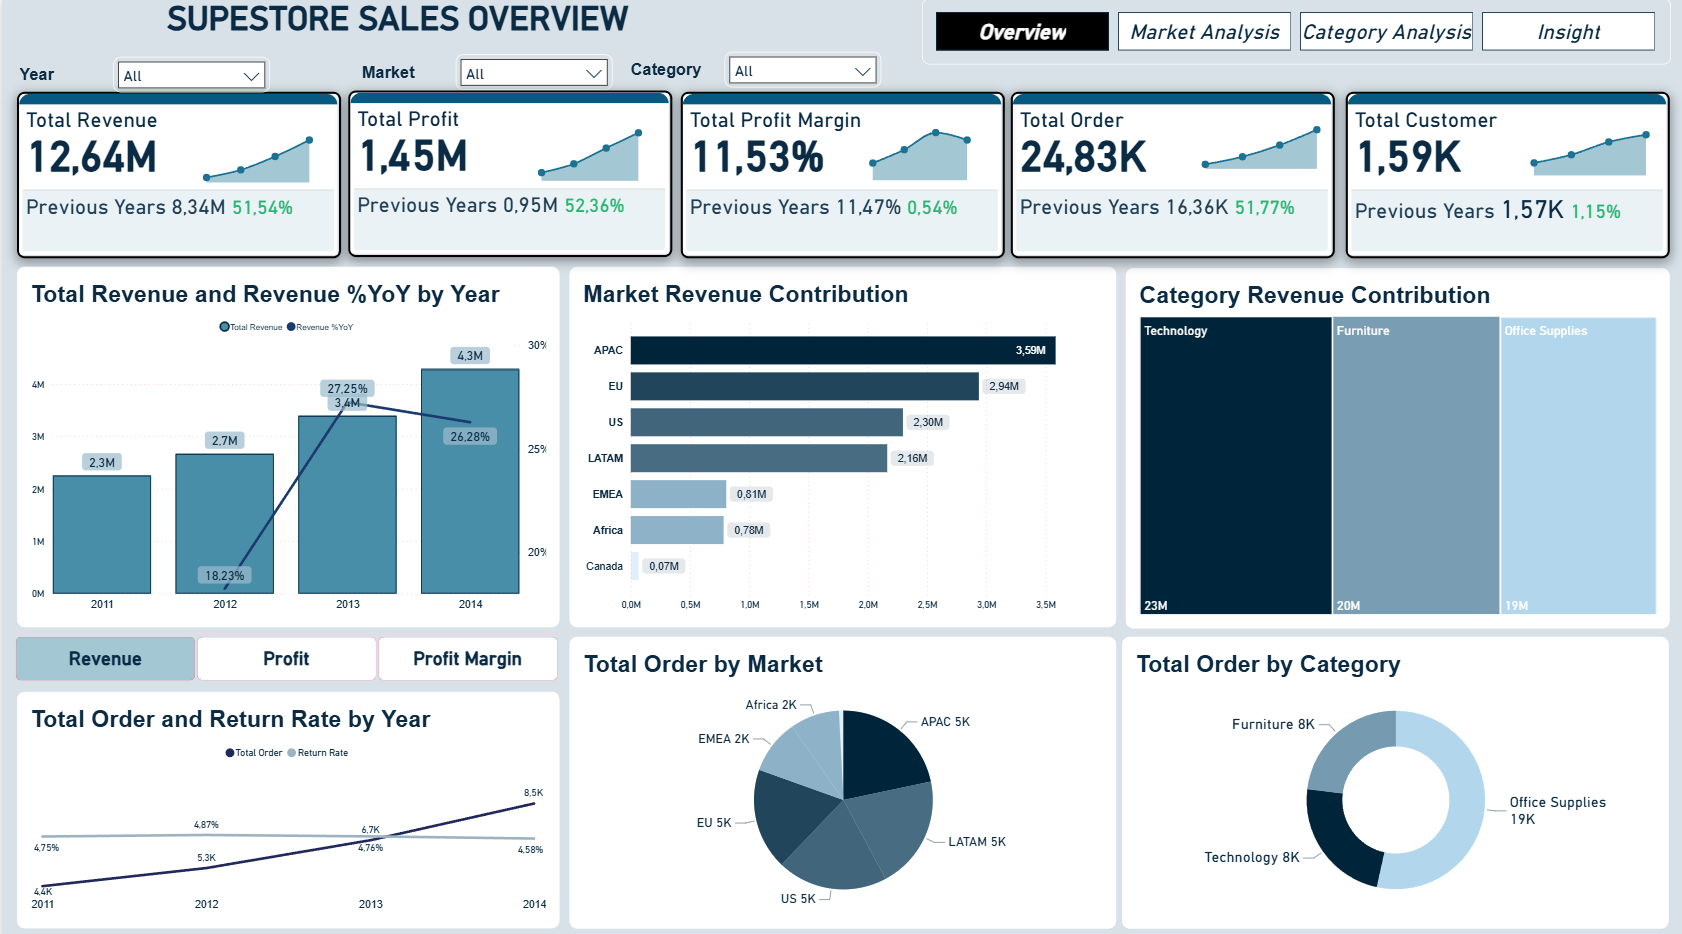

Layout of this report page (visuals, bound fields, positions):
{"tool":"powerbi","page":{"name":"Overview","canvas":[1920,1080],"ordinal":0},"visuals":[{"type":"textbox","box":[188.3,0,615,66.7],"z":0},{"type":"cardVisual","fields":{"Data":["_Measure.Total Customer"]},"box":[1535.7,107.5,370,190],"z":1000,"group":"g2"},{"type":"treemap","title":"Category Revenue Contribution","fields":{"Values":["Sum(Orders.Revenue)"],"Group":["Orders.Category","Orders.Sub-Category","Orders.Product Name"]},"box":[1285,308.3,621.7,411.7],"z":1000},{"type":"cardVisual","fields":{"Data":["Count(Orders.Order ID)"]},"box":[1153.3,107.5,370,190],"z":2000,"group":"g1"},{"type":"clusteredBarChart","title":"Market Revenue Contribution","fields":{"Category":["Orders.Market"],"Y":["_Measure.Total Revenue"]},"box":[648.3,306.7,625,411.7],"z":2000},{"type":"cardVisual","fields":{"Data":["_Measure.Total Revenue"]},"box":[17.1,107.5,370,190],"z":3000,"group":"g3"},{"type":"group","id":"g1","title":"Group 1","box":[1153.3,107.5,375.3,190],"z":3000},{"type":"group","id":"g2","title":"Group 2","box":[1535.7,107.5,370,190],"z":4000},{"type":"lineChart","fields":{"Category":["Date.Date.Variation.Date Hierarchy.Year"],"Y":["_Measure.Total Customer"]},"box":[1726,117.2,178,101],"z":4000,"group":"g2"},{"type":"lineChart","fields":{"Category":["Date.Date.Variation.Date Hierarchy.Year"],"Y":["_Measure.Total Revenue"]},"box":[208,123.1,167.5,103.3],"z":4000,"group":"g3"},{"type":"group","id":"g3","title":"Group 3","box":[17.1,107.5,370,190],"z":5000},{"type":"lineChart","fields":{"Category":["Date.Date.Variation.Date Hierarchy.Year"],"Y":["Count(Orders.Order ID)"]},"box":[1351.1,111.6,177.5,98.6],"z":5000,"group":"g1"},{"type":"group","id":"g4","title":"Group 4","box":[775,107.5,370,190],"z":6000},{"type":"pageNavigator","box":[1051.4,0,855.7,75.7],"z":7000},{"type":"group","id":"g5","title":"Group 5","box":[719,61,287,40],"z":8000},{"type":"group","id":"g6","title":"Group 5","box":[411,64,287,40],"z":9000},{"type":"cardVisual","fields":{"Data":["Sum(Orders.Profit)"]},"box":[395.7,106.3,370,190],"z":9000,"group":"g8"},{"type":"cardVisual","fields":{"Data":["_Measure.Total Profit Margin"]},"box":[775,107.5,370,190],"z":9000,"group":"g4"},{"type":"lineChart","fields":{"Category":["Date.Date.Variation.Date Hierarchy.Year"],"Y":["_Measure.Total Profit Margin"]},"box":[969.6,124.4,157.8,99],"z":9500,"group":"g4"},{"type":"lineChart","fields":{"Category":["Date.Date.Variation.Date Hierarchy.Year"],"Y":["Sum(Orders.Profit)"]},"box":[591.7,125.6,160.7,98.2],"z":9500,"group":"g8"},{"type":"group","id":"g7","title":"Group 5","box":[20,67,287,40],"z":10000},{"type":"slicer","fields":{"Values":["Orders.Category"]},"box":[826.3,61,179.1,40.6],"z":11000,"group":"g5"},{"type":"slicer","fields":{"Values":["Orders.Market"]},"box":[518.3,64,179.1,40.6],"z":11000,"group":"g6"},{"type":"slicer","fields":{"Values":["Date.Date.Variation.Date Hierarchy.Year"]},"box":[127.3,67,179.1,40.6],"z":11000,"group":"g7"},{"type":"group","id":"g8","title":"Group 4","box":[395.7,106.3,370,190],"z":11000},{"type":"textbox","box":[719,71.2,91.8,25],"z":12000,"group":"g5"},{"type":"textbox","box":[411,74.2,91.8,25],"z":12000,"group":"g6"},{"type":"textbox","box":[20,77.2,91.8,25],"z":12000,"group":"g7"},{"type":"lineClusteredColumnComboChart","fields":{"Category":["Date.Date.Variation.Date Hierarchy.Year","Date.Date.Variation.Date Hierarchy.Quarter","Date.Date.Variation.Date Hierarchy.Month","Date.Date.Variation.Date Hierarchy.Day"],"Y2":["_Measure.Revenue %YoY"],"Y":["_Measure.Total Revenue"]},"box":[16.7,306.7,620,411.7],"z":12000},{"type":"bookmarkNavigator","box":[16,730,620,50],"z":15000},{"type":"pieChart","title":"Total Order by Market","fields":{"Category":["Orders.Market"],"Y":["_Measure.Total Order"]},"box":[648.3,730,625,333.3],"z":16000},{"type":"donutChart","title":"Total Order by Category","fields":{"Y":["_Measure.Total Order"],"Category":["Orders.Category Hierarchy.Category","Orders.Category Hierarchy.Sub-Category"]},"box":[1280,730,625,333.3],"z":17000},{"type":"lineChart","fields":{"Category":["Date.Date.Variation.Date Hierarchy.Year","Date.Date.Variation.Date Hierarchy.Quarter","Date.Date.Variation.Date Hierarchy.Month","Date.Date.Variation.Date Hierarchy.Day"],"Y2":["_Measure.Return Rate"],"Y":["_Measure.Total Order"]},"box":[16.7,793.3,620,270],"z":18000}]}

Visuals, with their boxes in screenshot pixels (x1, y1, x2, y2), scaled from the page's 1920x1080 canvas onto the 1682x934 screenshot:
textbox: rect(165, 0, 704, 58)
cardVisual - _Measure.Total Customer: rect(1345, 93, 1669, 257)
"Category Revenue Contribution" treemap: rect(1126, 267, 1670, 623)
cardVisual - Count(Orders.Order ID): rect(1010, 93, 1334, 257)
"Market Revenue Contribution" clusteredBarChart: rect(568, 265, 1115, 621)
cardVisual - _Measure.Total Revenue: rect(15, 93, 339, 257)
"Group 1" group: rect(1010, 93, 1339, 257)
"Group 2" group: rect(1345, 93, 1669, 257)
lineChart - Date.Date.Variation.Date Hierarchy.Year x _Measure.Total Customer: rect(1512, 101, 1668, 189)
lineChart - Date.Date.Variation.Date Hierarchy.Year x _Measure.Total Revenue: rect(182, 106, 329, 196)
"Group 3" group: rect(15, 93, 339, 257)
lineChart - Date.Date.Variation.Date Hierarchy.Year x Count(Orders.Order ID): rect(1184, 97, 1339, 182)
"Group 4" group: rect(679, 93, 1003, 257)
pageNavigator: rect(921, 0, 1671, 65)
"Group 5" group: rect(630, 53, 881, 87)
"Group 5" group: rect(360, 55, 611, 90)
cardVisual - Sum(Orders.Profit): rect(347, 92, 671, 256)
cardVisual - _Measure.Total Profit Margin: rect(679, 93, 1003, 257)
lineChart - Date.Date.Variation.Date Hierarchy.Year x _Measure.Total Profit Margin: rect(849, 108, 988, 193)
lineChart - Date.Date.Variation.Date Hierarchy.Year x Sum(Orders.Profit): rect(518, 109, 659, 194)
"Group 5" group: rect(18, 58, 269, 93)
slicer - Orders.Category: rect(724, 53, 881, 88)
slicer - Orders.Market: rect(454, 55, 611, 90)
slicer - Date.Date.Variation.Date Hierarchy.Year: rect(112, 58, 268, 93)
"Group 4" group: rect(347, 92, 671, 256)
textbox: rect(630, 62, 710, 83)
textbox: rect(360, 64, 440, 86)
textbox: rect(18, 67, 98, 88)
lineClusteredColumnComboChart - Date.Date.Variation.Date Hierarchy.Year x Date.Date.Variation.Date Hierarchy.Quarter: rect(15, 265, 558, 621)
bookmarkNavigator: rect(14, 631, 557, 675)
"Total Order by Market" pieChart: rect(568, 631, 1115, 920)
"Total Order by Category" donutChart: rect(1121, 631, 1669, 920)
lineChart - Date.Date.Variation.Date Hierarchy.Year x Date.Date.Variation.Date Hierarchy.Quarter: rect(15, 686, 558, 920)
